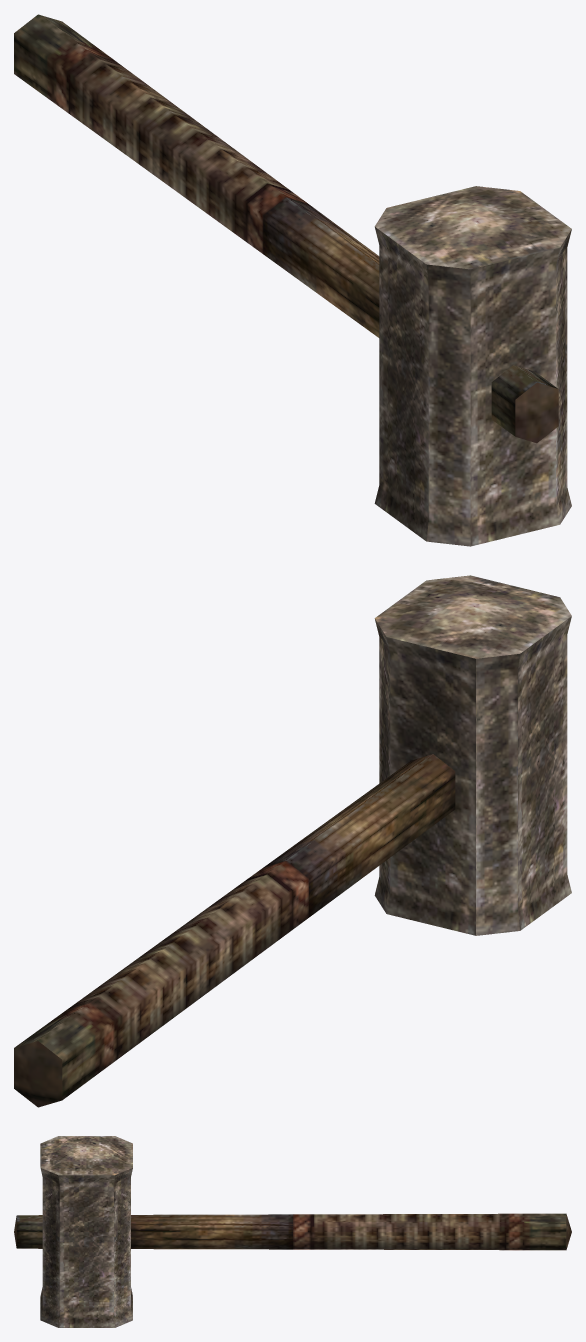
File: waj20.glb
3 views of the same model, one above another, from view 1: azimuth 30°, elevation 25°; view 2: azimuth 150°, elevation 25°; view 3: azimuth 270°, elevation 25° (orthographic). The views are drawn at different scales.
Parts seen in each view (by area): view 1: waj20-col; view 2: waj20-col; view 3: waj20-col.
Part boxes in pixels (x1=…): waj20-col: x1=14, y1=14, x2=571, y2=546; waj20-col: x1=14, y1=575, x2=571, y2=1107; waj20-col: x1=14, y1=1136, x2=571, y2=1327.
Bounding box in the file's own units: 0.1435 × 0.28 × 0.8644.
Materials: 1 (1 with a texture image).
